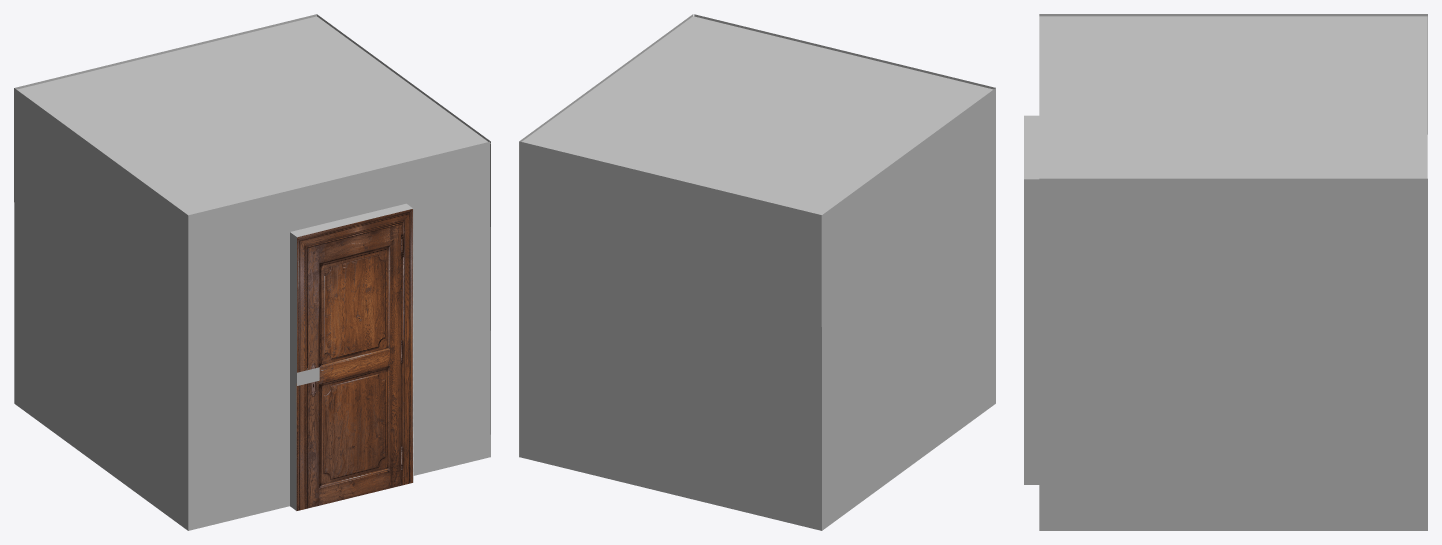
Rendered from Room.fbx.
3 views of the same model, side by side, from view 1: azimuth 30°, elevation 25°; view 2: azimuth 150°, elevation 25°; view 3: azimuth 270°, elevation 25° (orthographic). The views are drawn at different scales.
Parts seen in each view (by area): view 1: Cube, Cube.013, Cube.011; view 2: Cube.013, Cube; view 3: Cube.013, Cube.011, Cube.
Part boxes in pixels (box(x1,y1,x2,y2)): Cube: box(14, 88, 490, 530); Cube.013: box(15, 14, 490, 434); Cube.011: box(290, 203, 413, 510); Cube.013: box(519, 14, 993, 530); Cube: box(694, 14, 995, 530); Cube.013: box(1039, 16, 1427, 530); Cube.011: box(1024, 115, 1039, 484); Cube: box(1039, 14, 1427, 134).
Bounding box in the file's own units: 13841 × 14012 × 14339.
